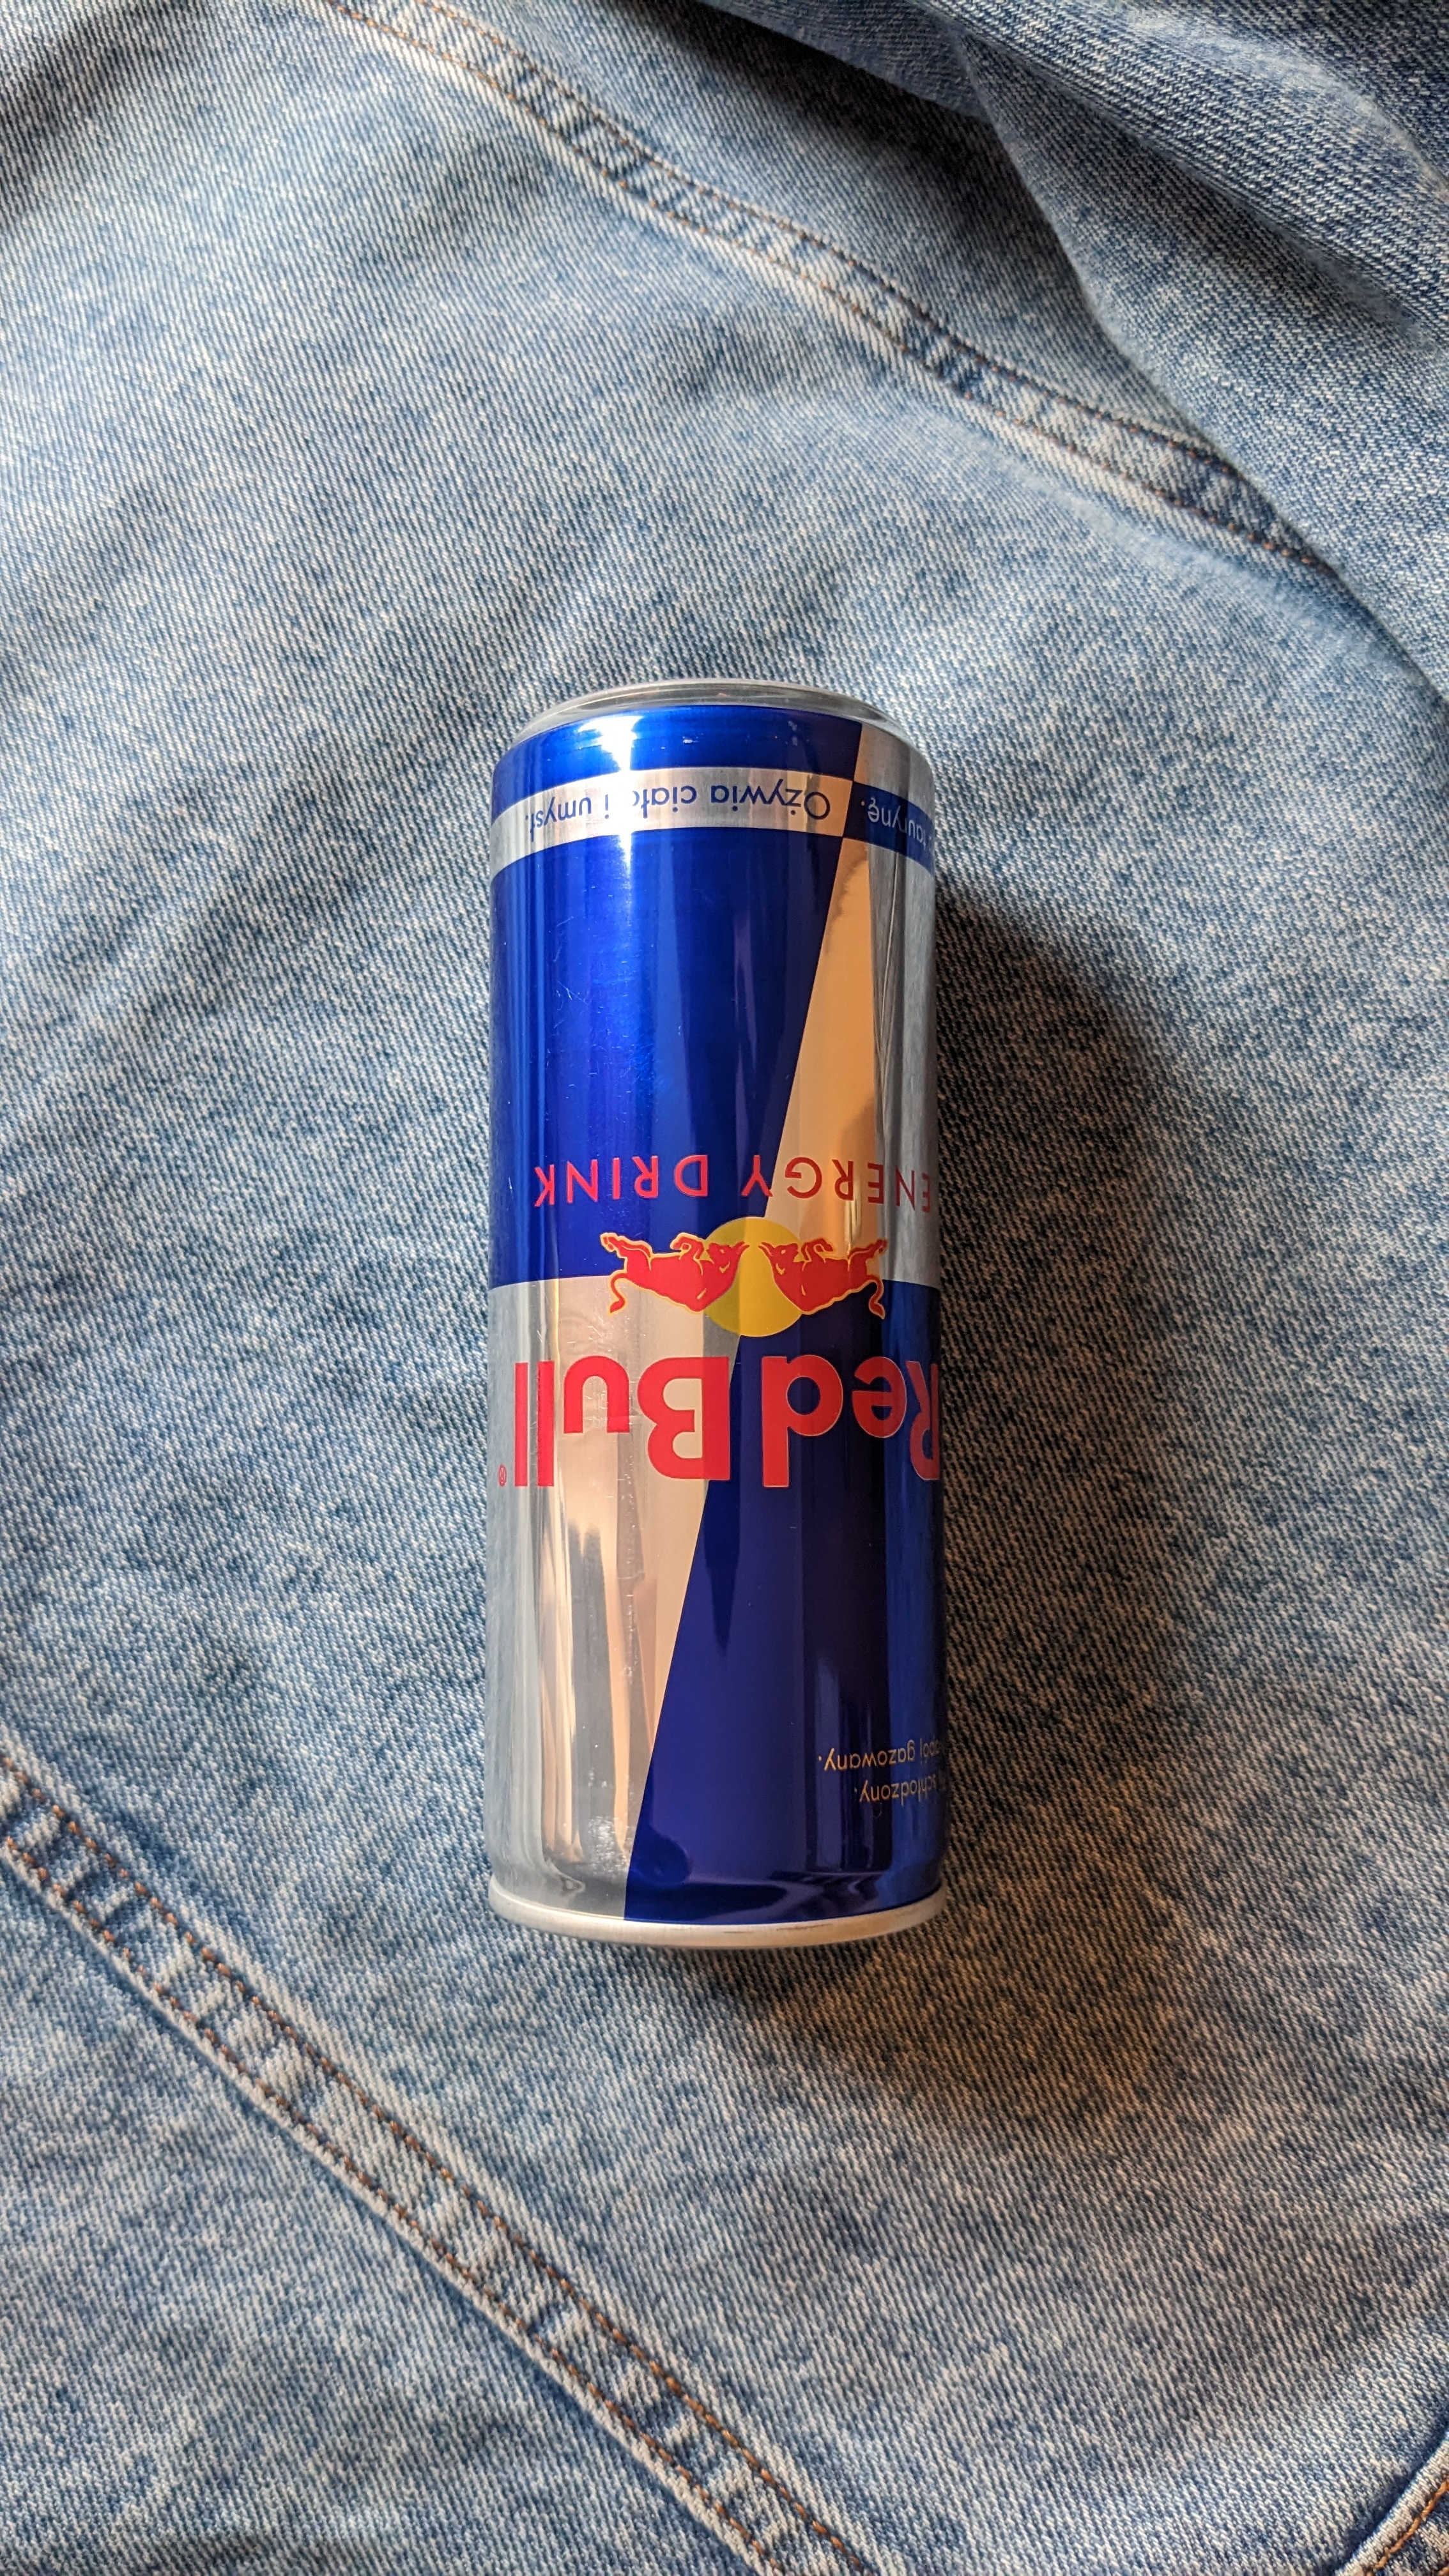red-bull: (451, 669, 994, 1973)
